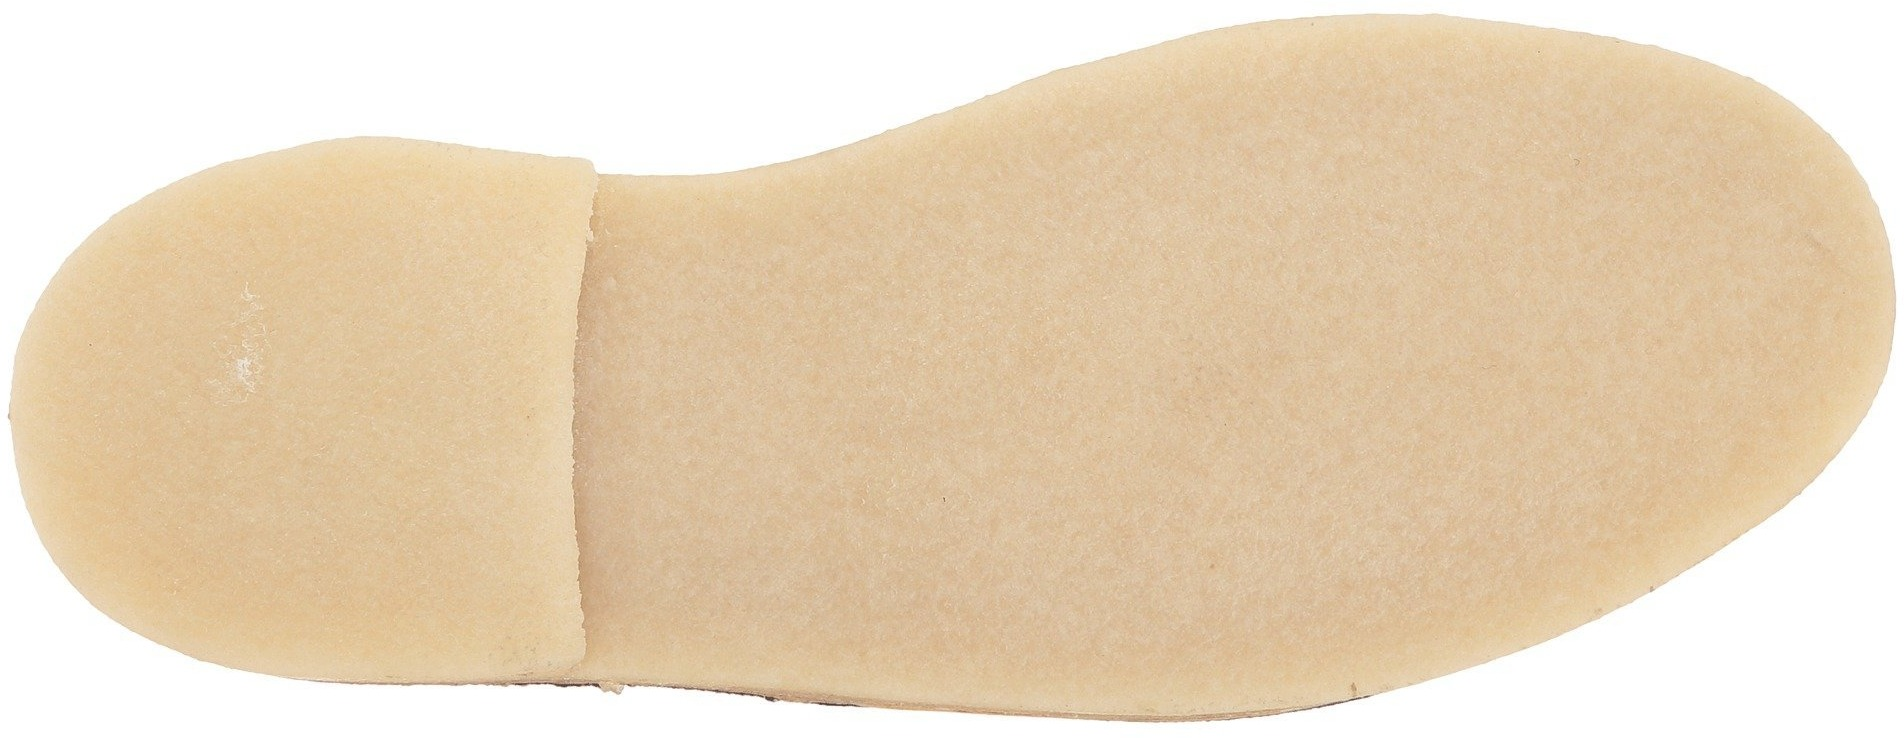exclude: (283, 679, 1377, 736)
other: (1219, 63, 1753, 586), (716, 140, 1257, 651), (112, 211, 561, 645)
